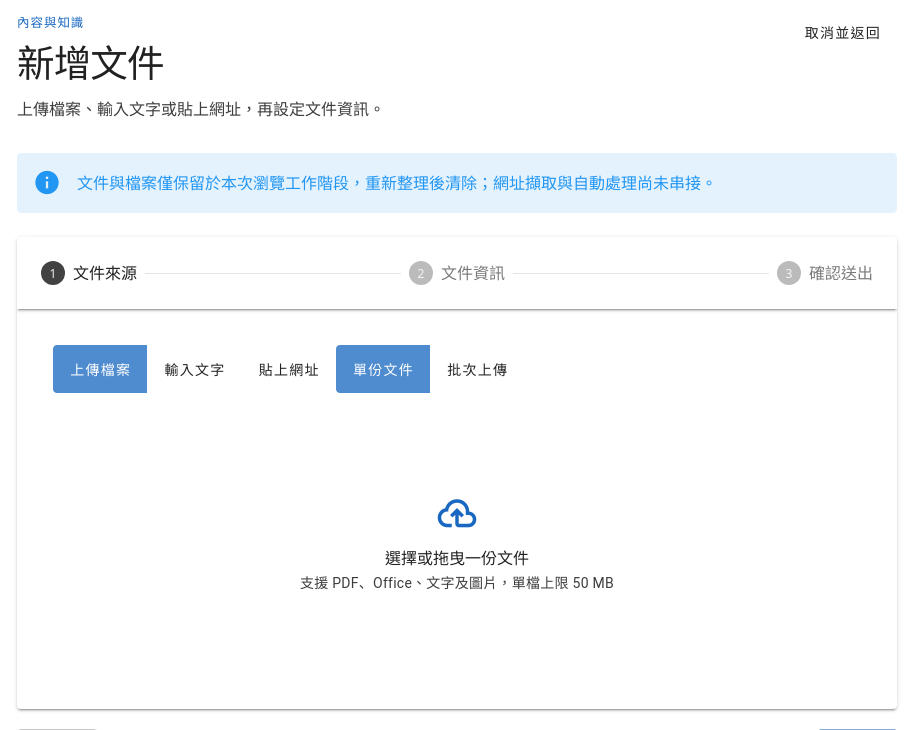
Test: AdminUploadView 三種文件來源 › should block a non-HTTP url and accept an https one
Click the button "貼上網址" at (289, 369), box [242,345,336,393]
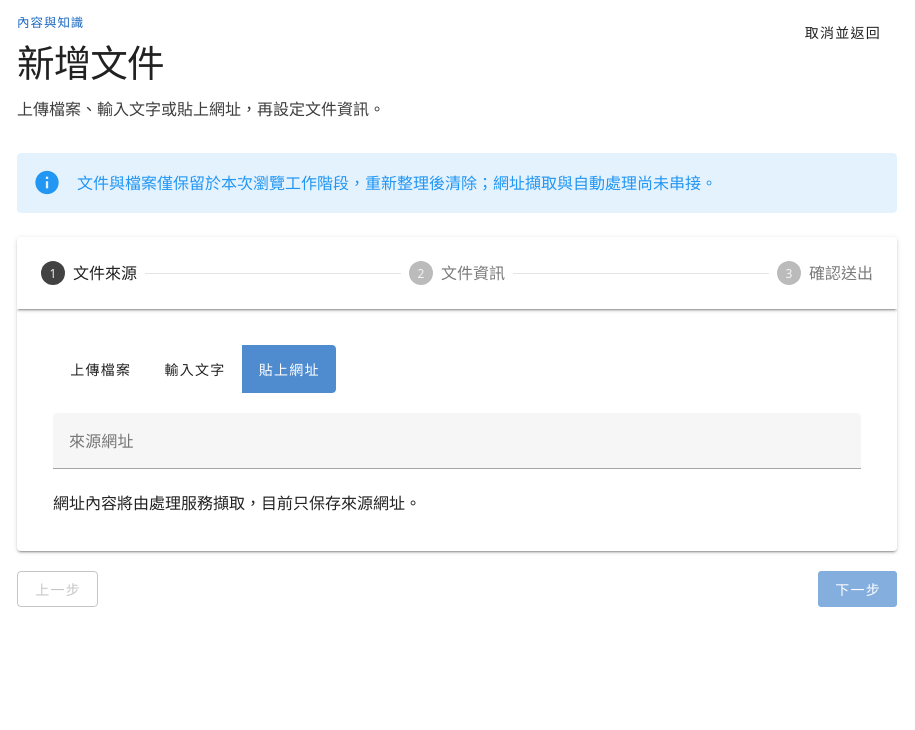
Type "javascript:alert(1)" into the field labelled "來源網址" at (457, 441), box [53,413,861,469]
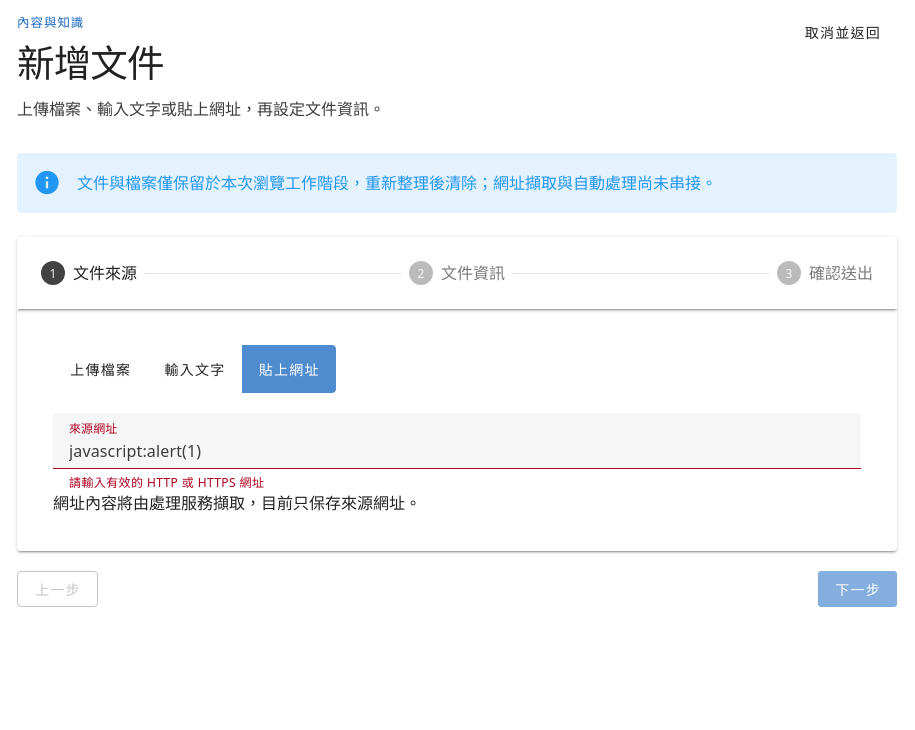
Expected: the text "請輸入有效的 HTTP 或 HTTPS 網址" is shown, [69,474,264,491]
Replace the text in the field labelled "來源網址" with "https://intranet.example.com/policy" at (457, 441), box [53,413,861,469]
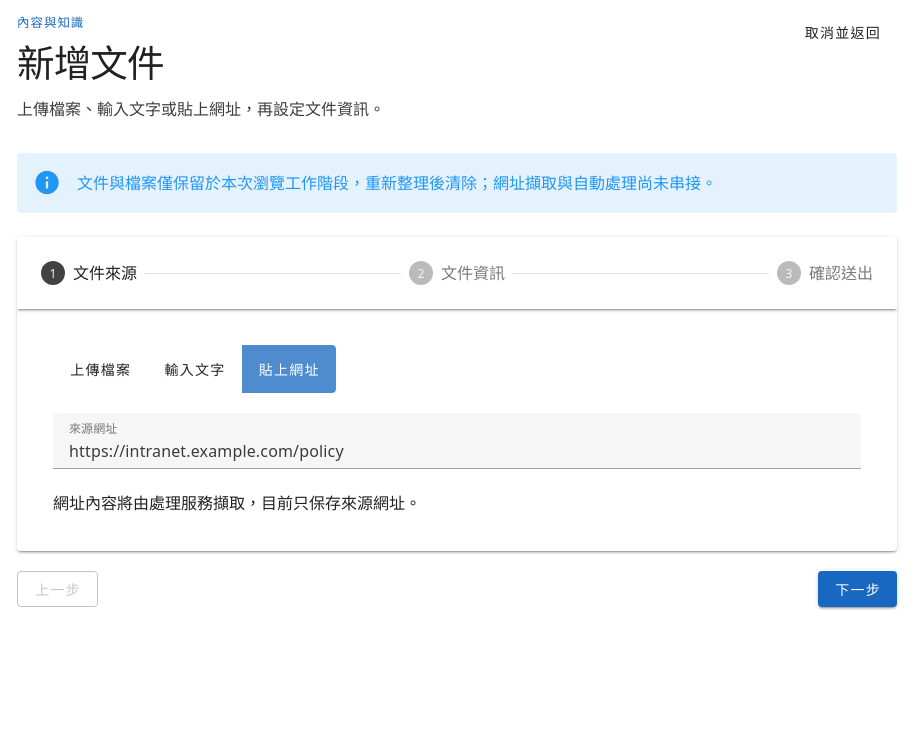
Expected: the text "請輸入有效的 HTTP 或 HTTPS 網址" is gone
